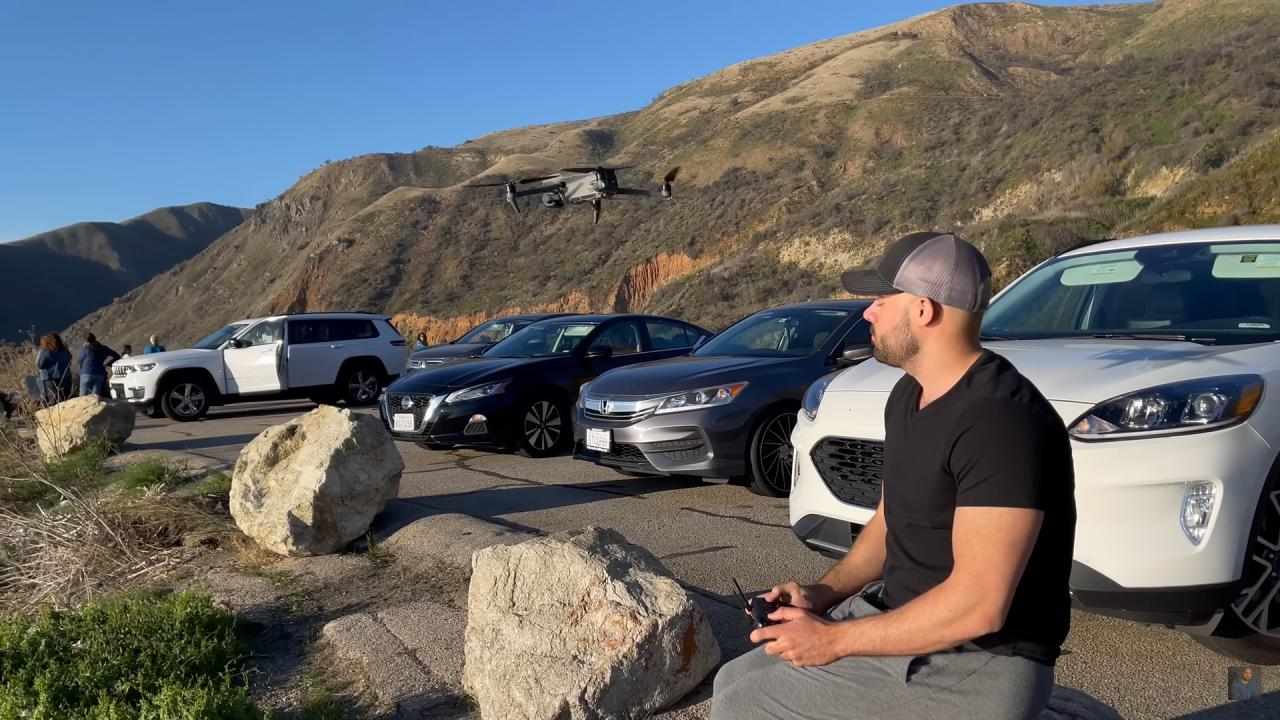Drone: (456, 150, 694, 231)
